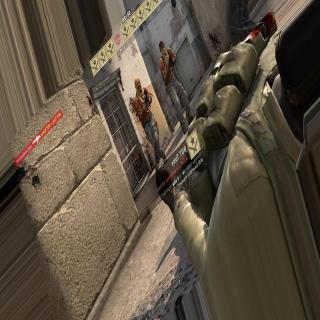T-Body: (157, 42, 196, 132), (130, 75, 166, 170)
T-Head: (132, 76, 142, 91), (158, 40, 167, 54)
